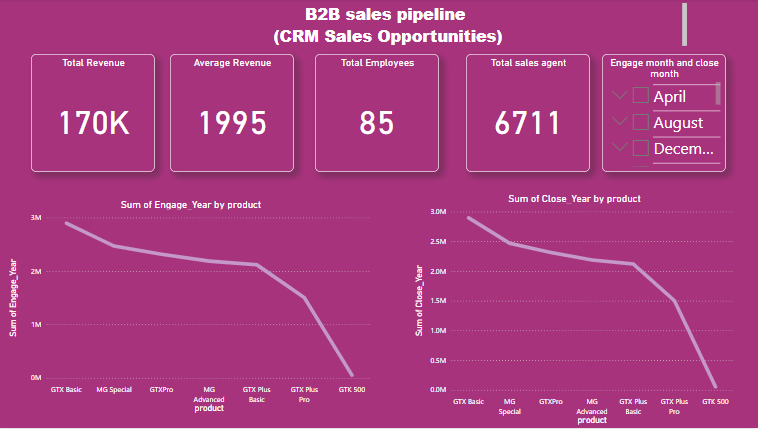

What the dashboard file says about the page in this screenshot:
{"tool":"powerbi","page":{"name":"Page 1","canvas":[1280,720],"ordinal":0},"visuals":[{"type":"card","title":"Average Revenue","fields":{"Values":["accounts.Avg Revenue"]},"box":[292.3,92.4,208.3,198.2],"z":2},{"type":"card","title":"Total Employees","fields":{"Values":["accounts.Total Employees"]},"box":[535.9,92.4,208.3,198.2],"z":3},{"type":"card","title":"Total Revenue","fields":{"Values":["accounts.Total Revenue"]},"box":[58.8,92.4,208.3,198.2],"z":4},{"type":"card","title":"Total sales agent","fields":{"Values":["sales_pipeline.Total Sales_Agent"]},"box":[789.5,92.4,208.3,198.2],"z":5},{"type":"lineChart","fields":{"Y":["Sum(sales_pipeline.Close_Year)"],"Category":["sales_pipeline.product"]},"box":[697.1,324.2,549.3,396.4],"z":8},{"type":"slicer","title":"Engage month and close month","fields":{"Values":["sales_pipeline.Eng_MNTH","sales_pipeline.cl_Mnth"]},"box":[1018,92.4,208.3,198.2],"z":9},{"type":"lineChart","fields":{"Category":["sales_pipeline.product"],"Y":["Sum(sales_pipeline.Engage_Year)"]},"box":[15.1,334.3,624.9,366.2],"z":10},{"type":"textbox","box":[38.6,1.7,1127.1,90.7],"z":11}]}

Visuals, with their boxes in screenshot pixels (x1, y1, x2, y2), scaled from the page's 1280x720 canvas onto the 758x429 screenshot:
"Average Revenue" card: rect(173, 55, 296, 173)
"Total Employees" card: rect(317, 55, 441, 173)
"Total Revenue" card: rect(35, 55, 158, 173)
"Total sales agent" card: rect(468, 55, 591, 173)
lineChart - Sum(sales_pipeline.Close_Year) x sales_pipeline.product: rect(413, 193, 738, 428)
"Engage month and close month" slicer: rect(603, 55, 726, 173)
lineChart - sales_pipeline.product x Sum(sales_pipeline.Engage_Year): rect(9, 199, 379, 417)
textbox: rect(23, 1, 690, 55)
